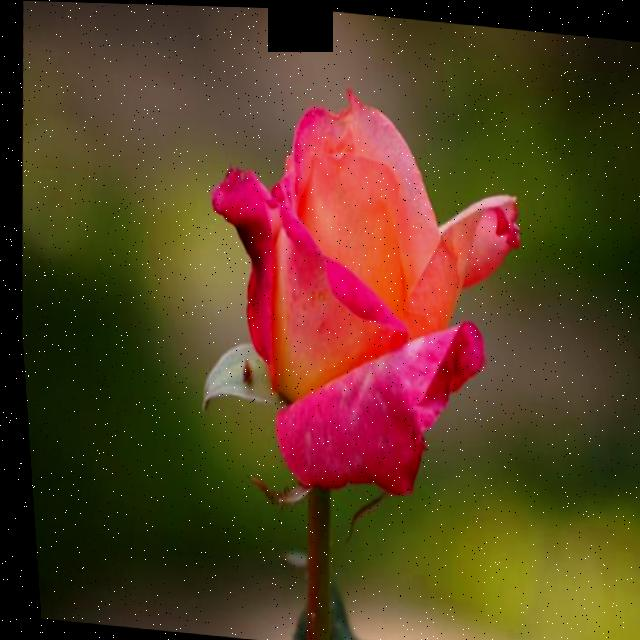rose: (171, 72, 526, 571)
